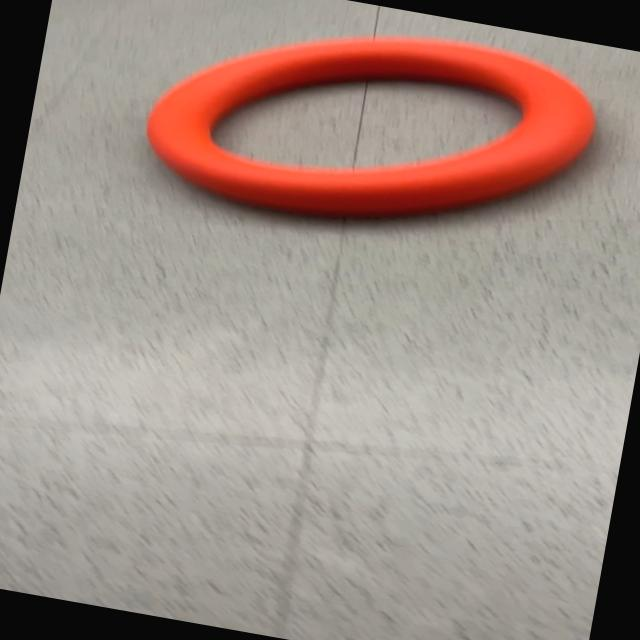note: (132, 0, 608, 264)
